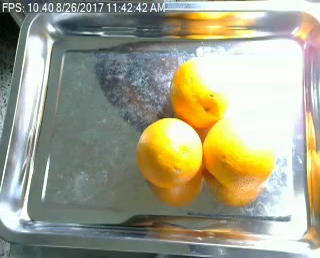Orange: (169, 57, 234, 127)
